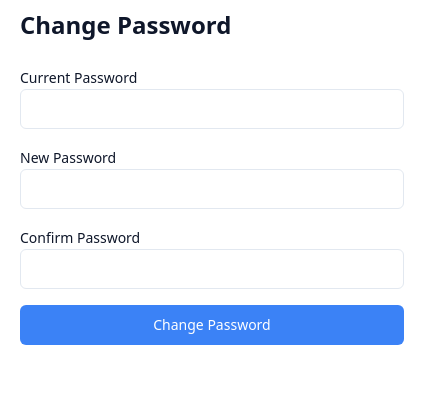
AccountPage › shows error when new password and confirm do not match
Type "oldpass" into the password field labelled "Current Password".
click(212, 109); type("oldpass")  # box [20,89,404,129]
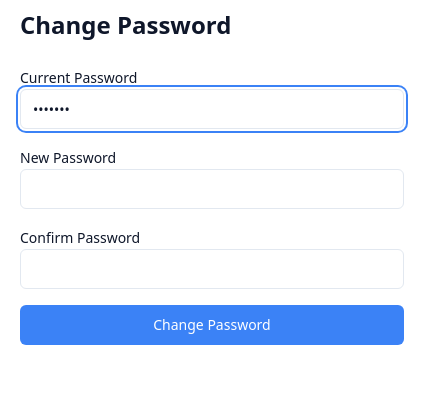
Type "newpass1" into the password field labelled "New Password".
click(212, 189); type("newpass1")  # box [20,169,404,209]
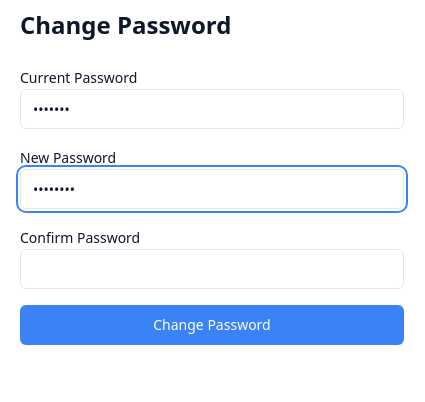
Type "newpass2" into the password field labelled "Confirm Password".
click(212, 269); type("newpass2")  # box [20,249,404,289]
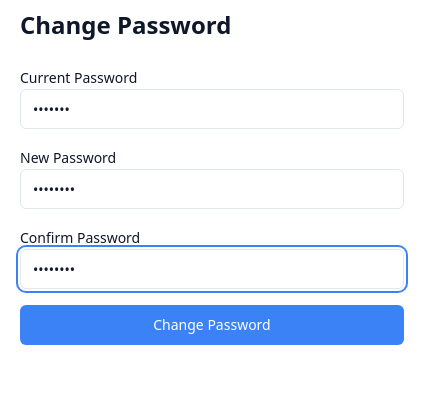
Click the button "Change Password".
click(212, 325)  # box [20,305,404,345]
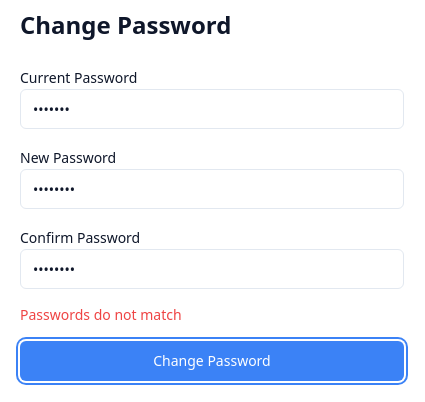
Expected: the text "Passwords do not match" is shown, [20,305,182,324]
